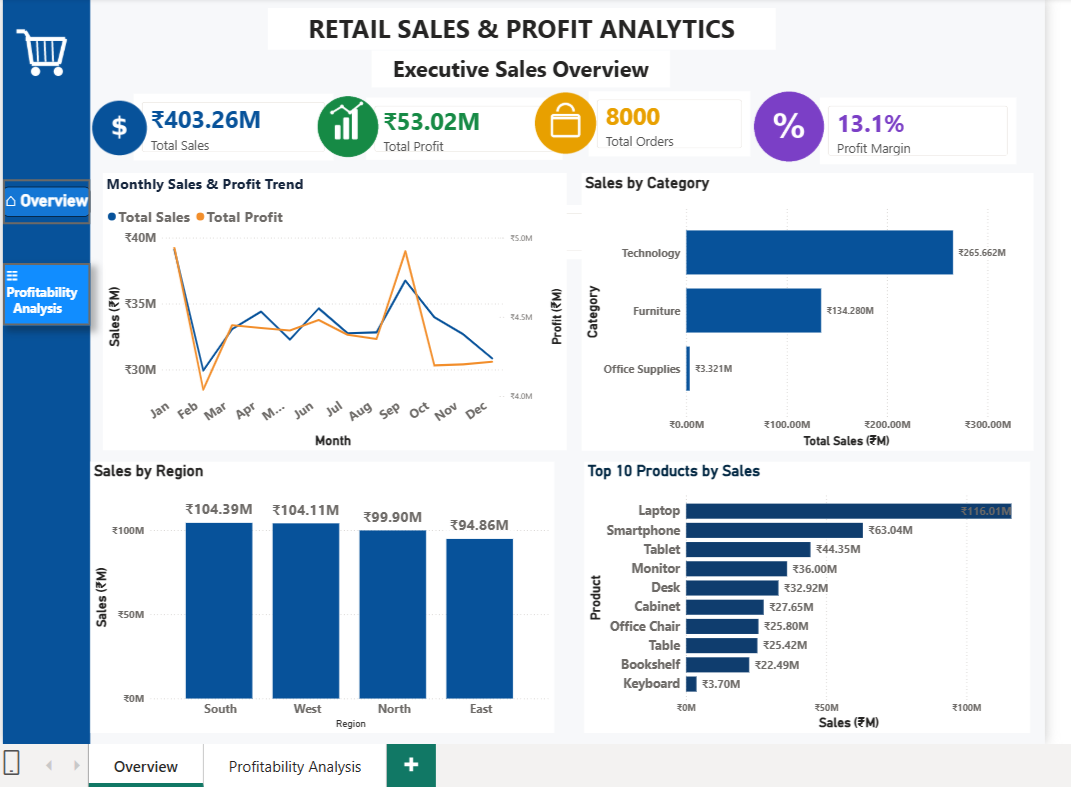

Layout of this report page (visuals, bound fields, positions):
{"tool":"powerbi","page":{"name":"Overview","canvas":[1536,1100],"ordinal":0},"visuals":[{"type":"shape","box":[0,0,129,1100.4],"z":0},{"type":"textbox","box":[390.3,15.1,748.7,62],"z":1000},{"type":"textbox","box":[543.4,77.4,439.7,54.3],"z":2000},{"type":"cardVisual","fields":{"Data":["DateTable.Total Sales"]},"box":[188,135.9,304.1,108.7],"z":3000},{"type":"cardVisual","fields":{"Data":["DateTable.Total Profit"]},"box":[531,142.4,299.8,102],"z":4000},{"type":"cardVisual","fields":{"Data":["DateTable.Total Profit"]},"box":[614.7,299.8,300,90],"z":5000},{"type":"cardVisual","fields":{"Data":["DateTable.Total Orders"]},"box":[858.9,132.7,248.8,106.9],"z":6000},{"type":"cardVisual","fields":{"Data":["DateTable.Profit Margin"]},"box":[1199.3,142.4,299.8,108],"z":7000},{"type":"lineChart","title":"Monthly Sales & Profit Trend","fields":{"Y":["DateTable.Total Sales"],"Y2":["DateTable.Total Profit"],"Category":["DateTable.Month"]},"box":[147.5,258,683.8,409.2],"z":8000},{"type":"lineClusteredColumnComboChart","title":"Sales by Region","fields":{"Category":["retail_sales.Region"],"Y":["DateTable.Total Sales"]},"box":[129,683.8,683.8,400],"z":9000},{"type":"clusteredBarChart","title":"Top 10 Products by Sales","fields":{"Category":["retail_sales.Product"],"Y":["DateTable.Total Sales"]},"box":[857.1,683.8,657.2,400.3],"z":10000},{"type":"clusteredBarChart","title":" Sales by Category","fields":{"Category":["retail_sales.Category"],"Y":["DateTable.Total Sales"]},"box":[852.7,258.8,666.5,409.6],"z":11000},{"type":"image","box":[128.5,132.2,85.6,117.3],"z":12000},{"type":"image","box":[439.4,141.5,139.6,95],"z":13000},{"type":"image","box":[781.5,123.5,95.8,121.6],"z":14000},{"type":"image","box":[1092.9,134.1,132.2,109.8],"z":15000},{"type":"image","box":[0,22.1,114.3,114.3],"z":16000},{"type":"shape","title":"⌂ Overview","box":[0,278.3,129,44.2],"z":17000},{"type":"textbox","box":[0,390.8,129,92.2],"z":18000},{"type":"actionButton","box":[0,390.8,129,92.2],"z":19000},{"type":"actionButton","box":[0,267.3,129,66.4],"z":20000}]}

Visuals, with their boxes on the page's 1536x1100 design canvas (x1, y1, x2, y2). These are canvas units, not pixel positions in the 1071x787 screenshot, which may show the page scaled, cropped or inside an application window:
shape: (0,0,129,1100)
textbox: (390,15,1139,77)
textbox: (543,77,983,132)
cardVisual - DateTable.Total Sales: (188,136,492,245)
cardVisual - DateTable.Total Profit: (531,142,831,244)
cardVisual - DateTable.Total Profit: (615,300,915,390)
cardVisual - DateTable.Total Orders: (859,133,1108,240)
cardVisual - DateTable.Profit Margin: (1199,142,1499,250)
"Monthly Sales & Profit Trend" lineChart: (148,258,831,667)
"Sales by Region" lineClusteredColumnComboChart: (129,684,813,1084)
"Top 10 Products by Sales" clusteredBarChart: (857,684,1514,1084)
" Sales by Category" clusteredBarChart: (853,259,1519,668)
image: (128,132,214,250)
image: (439,142,579,236)
image: (782,124,877,245)
image: (1093,134,1225,244)
image: (0,22,114,136)
"⌂ Overview" shape: (0,278,129,322)
textbox: (0,391,129,483)
actionButton: (0,391,129,483)
actionButton: (0,267,129,334)
